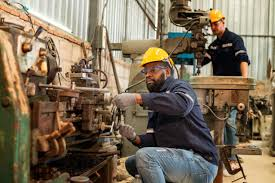Goggles: (140, 69, 167, 75)
Helmet: (136, 48, 172, 66)
